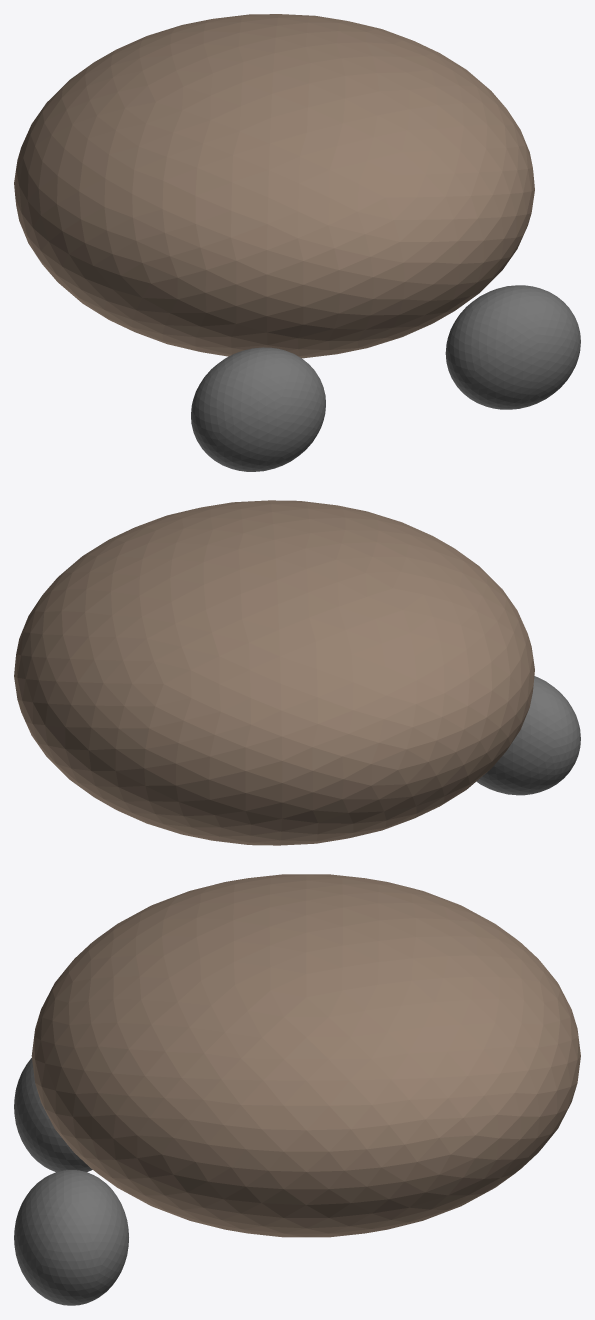
Rendered from pilot_gear.glb.
3 renders of one model, top to bottom at view 1: azimuth 30°, elevation 25°; view 2: azimuth 150°, elevation 25°; view 3: azimuth 270°, elevation 25°, orthographic. The views are drawn at different scales.
Parts seen in each view (by area): view 1: geometry_0, geometry_1, geometry_2; view 2: geometry_0, geometry_1; view 3: geometry_0, geometry_2, geometry_1.
Part boxes in pixels (x1,y1,x2,y2): geometry_0: (14,14,534,358); geometry_1: (191,347,325,471); geometry_2: (445,285,580,409); geometry_0: (14,500,534,845); geometry_1: (476,676,580,795); geometry_0: (31,874,580,1237); geometry_2: (14,1170,128,1305); geometry_1: (14,1058,92,1171).
Size of the model in its own units: 1.24 by 0.79 by 1.28.
